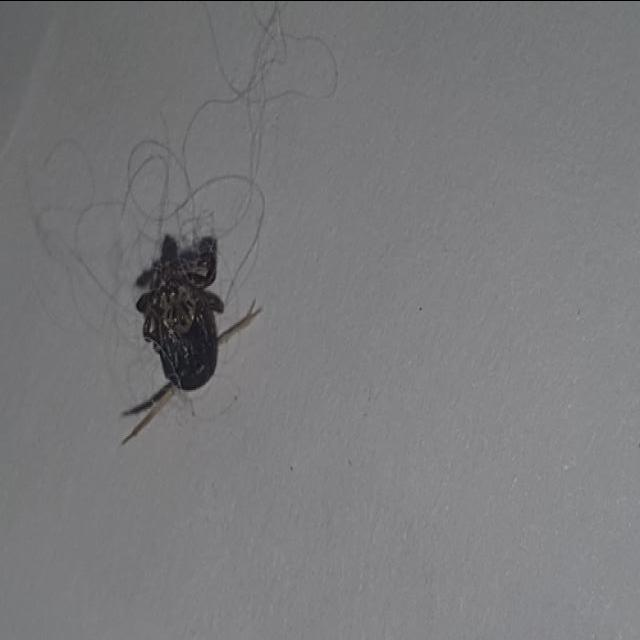Dermacentor Reticulatus-F: (136, 234, 225, 391)
